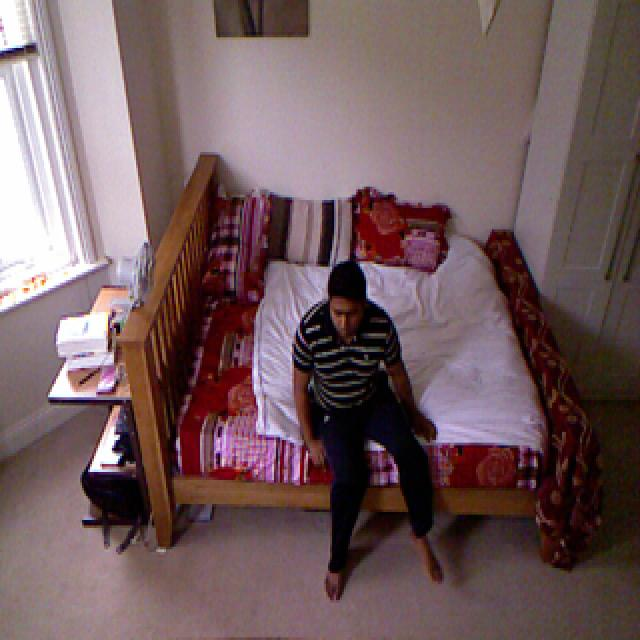sitting: (295, 272, 444, 602)
